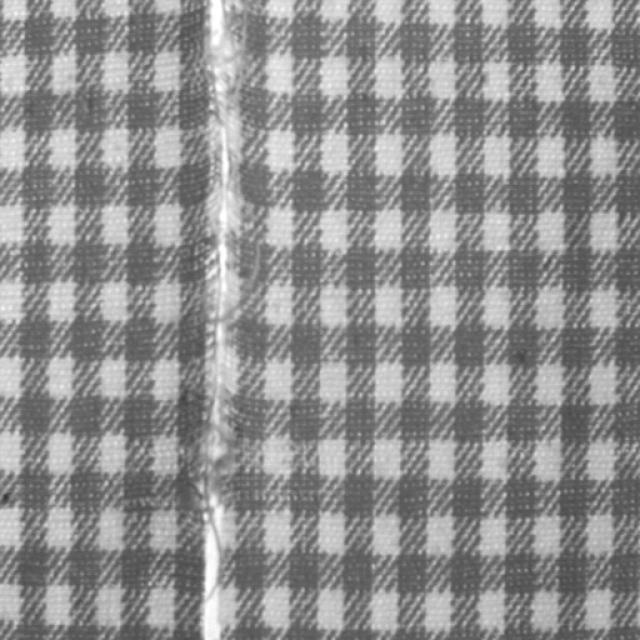Hole-Defect: (202, 0, 240, 639)
